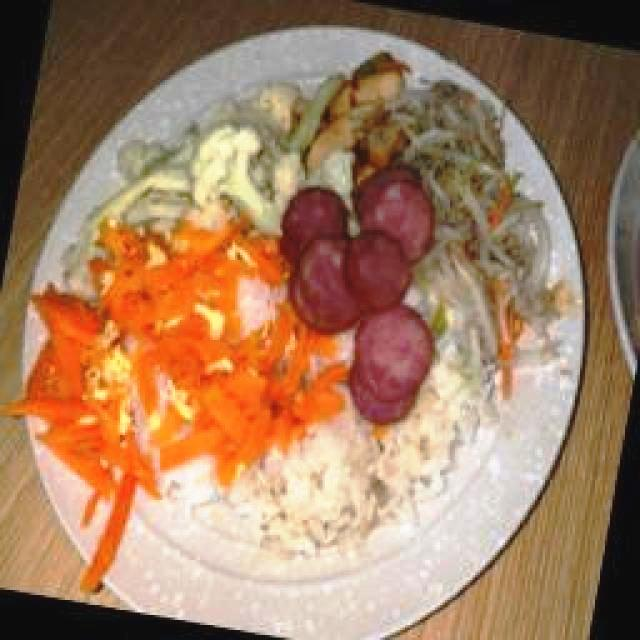carrot_eggs: (15, 229, 295, 460)
chinese_sausage: (277, 163, 439, 426)
